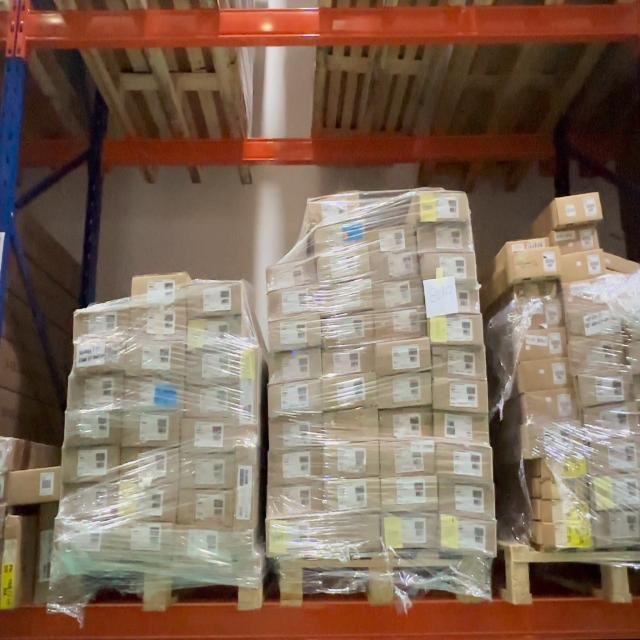box: (234, 445, 259, 548), (112, 524, 176, 560), (176, 528, 236, 564), (120, 484, 179, 520), (61, 447, 119, 483), (126, 342, 184, 378), (577, 372, 636, 407), (324, 518, 384, 552), (441, 520, 496, 557), (124, 413, 182, 448), (63, 410, 119, 446), (129, 305, 185, 341), (268, 522, 324, 558), (126, 379, 185, 413), (440, 484, 497, 519), (184, 386, 246, 418), (381, 477, 437, 512), (570, 339, 629, 372), (123, 448, 180, 482), (432, 379, 487, 414), (187, 350, 242, 385), (588, 439, 640, 476), (322, 482, 380, 515), (179, 489, 232, 525), (182, 418, 238, 452), (384, 516, 438, 551), (377, 338, 432, 372), (320, 281, 373, 316), (190, 281, 243, 316), (434, 410, 488, 444), (69, 376, 123, 410), (76, 306, 130, 340), (133, 272, 187, 306), (425, 282, 482, 314), (181, 453, 233, 488), (325, 442, 378, 476), (432, 347, 485, 381), (526, 424, 582, 456), (381, 443, 435, 476), (9, 469, 63, 502), (438, 446, 490, 480), (61, 485, 116, 517), (268, 449, 321, 482), (189, 316, 242, 349), (566, 304, 619, 337), (54, 523, 112, 553), (268, 484, 322, 516), (268, 416, 322, 448), (380, 375, 432, 408), (594, 512, 640, 549), (590, 477, 640, 511), (326, 410, 379, 442), (584, 406, 640, 436), (270, 382, 324, 413), (324, 377, 376, 409), (380, 410, 433, 441), (415, 190, 466, 222), (517, 328, 566, 361), (431, 313, 483, 344), (318, 249, 370, 280), (322, 313, 372, 345), (526, 391, 576, 423), (520, 359, 570, 391), (75, 342, 126, 373), (422, 252, 478, 280), (270, 353, 324, 382), (268, 288, 320, 318), (377, 308, 427, 339), (2, 514, 18, 610), (419, 223, 471, 252), (372, 278, 422, 308), (271, 320, 323, 348), (556, 193, 600, 226), (511, 247, 559, 277), (322, 346, 373, 374), (313, 197, 361, 226), (267, 261, 316, 289), (315, 224, 367, 250), (517, 300, 563, 329), (372, 252, 419, 280), (559, 250, 604, 279), (540, 526, 594, 549), (564, 279, 610, 306), (552, 225, 600, 250), (516, 279, 561, 305), (370, 226, 414, 252), (540, 480, 589, 501), (538, 458, 586, 479), (542, 501, 587, 523), (510, 238, 553, 260)
